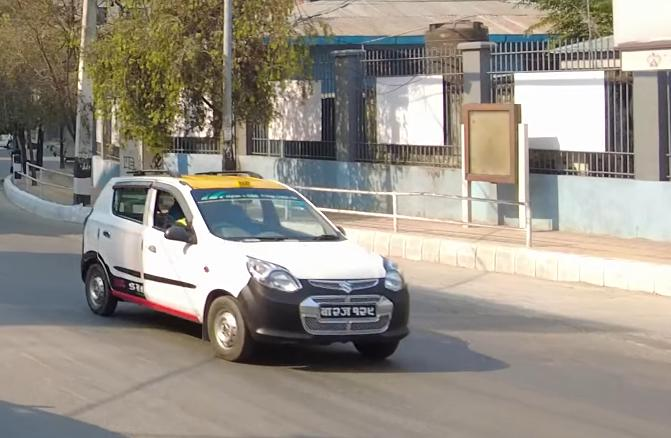taxi: (74, 164, 411, 369)
